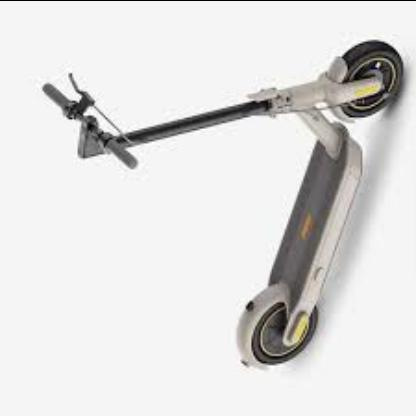bike: (25, 38, 406, 372)
